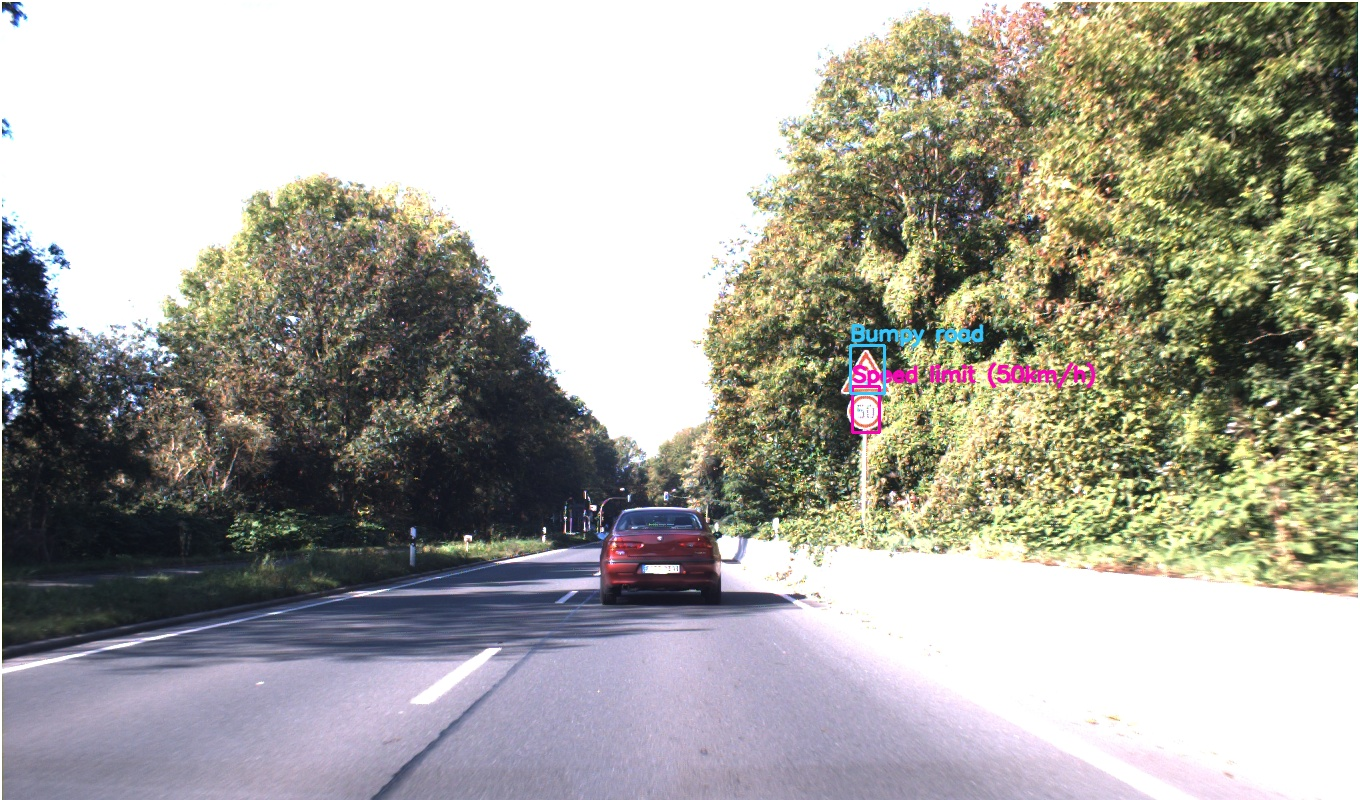No passing: (794, 503, 821, 529)
Road narrows on the right: (788, 437, 828, 473)
Speed limit (30km/h): (794, 474, 822, 502)
